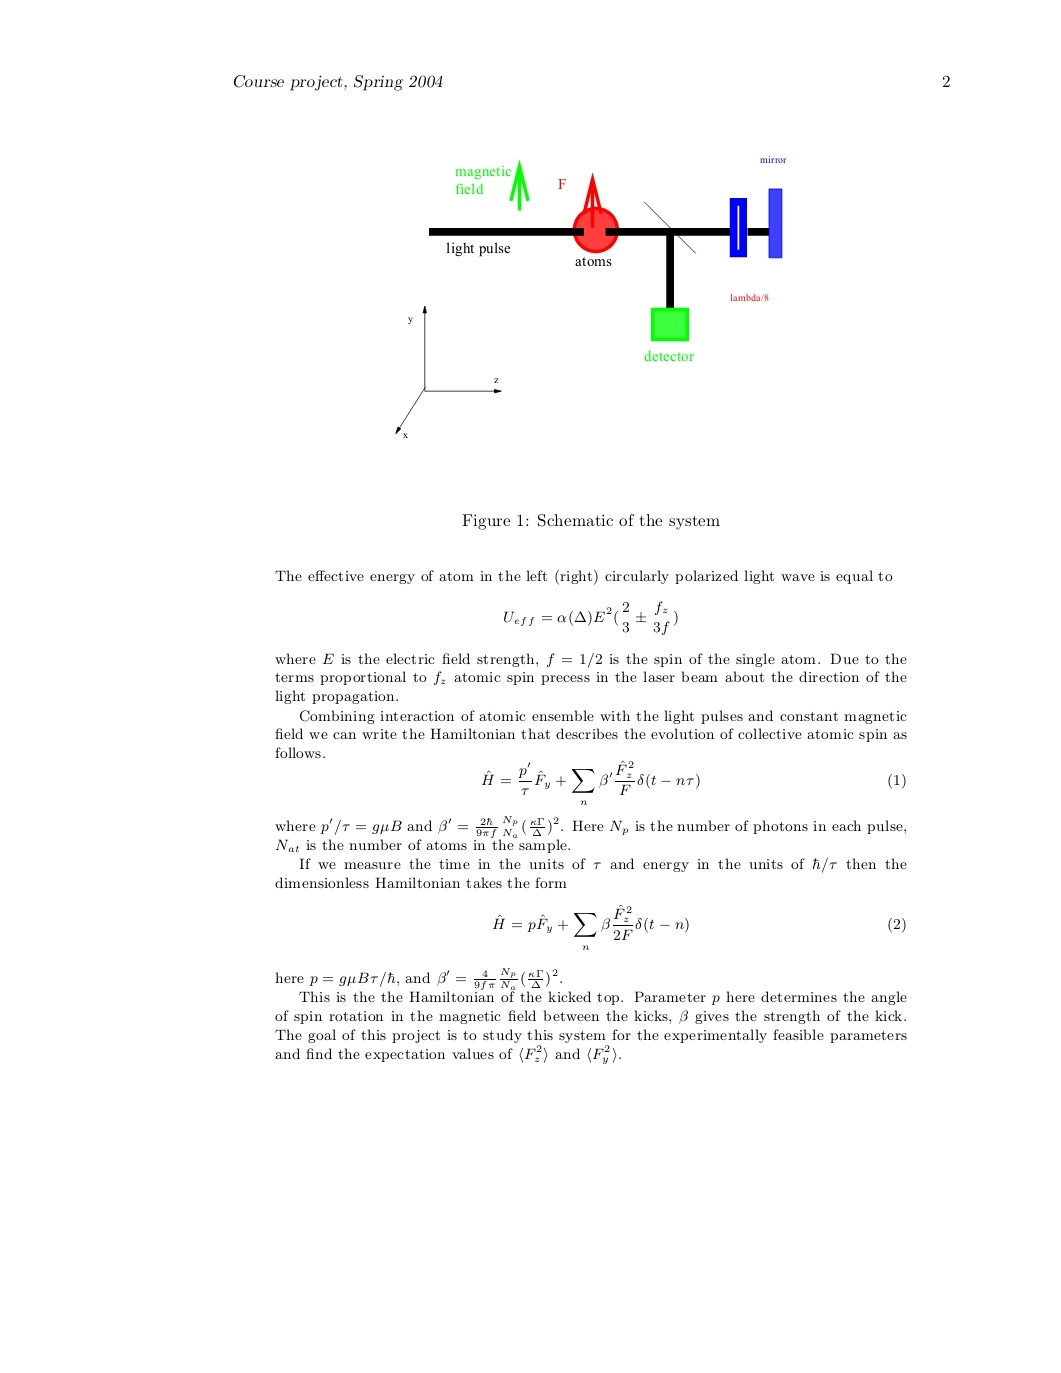figure: (395, 155, 785, 438)
formula: (491, 904, 905, 950), (481, 760, 905, 795), (504, 600, 676, 635), (275, 968, 561, 989)
